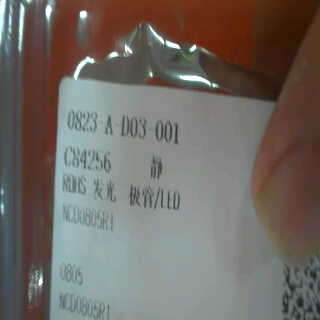LED: (91, 175, 188, 216)
